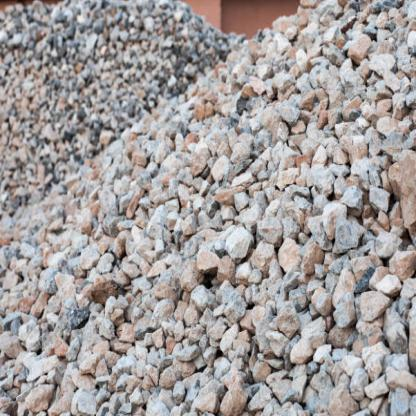Sedimentary_Limestone: (389, 154, 415, 242), (359, 290, 394, 322), (193, 238, 219, 274), (332, 287, 356, 323), (158, 274, 181, 302)
